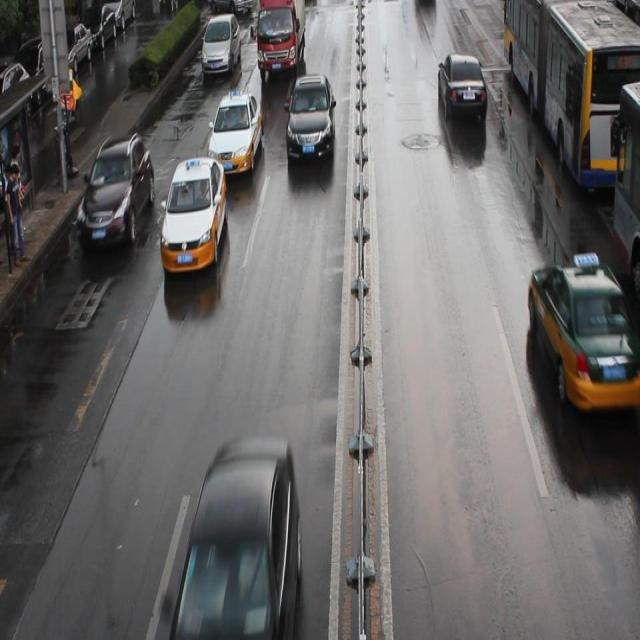bus: (256, 1, 306, 72)
car: (170, 435, 302, 640), (524, 259, 640, 411), (75, 130, 156, 252), (160, 155, 229, 270), (208, 91, 264, 176), (284, 73, 334, 160), (436, 52, 486, 120), (201, 13, 241, 76), (207, 1, 254, 19)
van: (500, 1, 640, 187), (610, 80, 640, 300)
